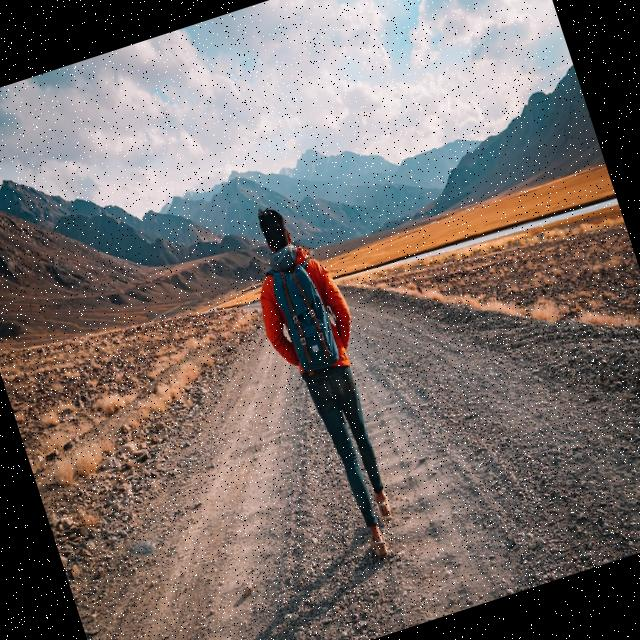Person: (229, 192, 426, 574)
